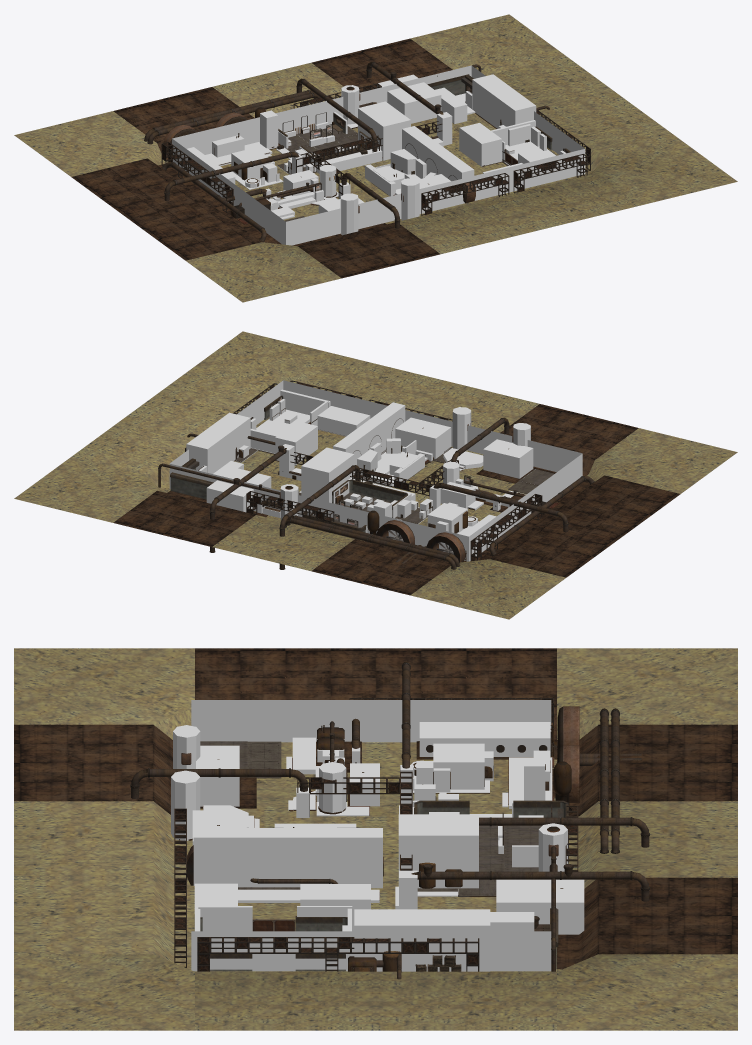
The picture shows the model from 3 angles, top to bottom: view 1: azimuth 30°, elevation 25°; view 2: azimuth 150°, elevation 25°; view 3: azimuth 270°, elevation 25°; orthographic projection. The views are drawn at different scales.
Visible parts, largest first — view 1: environment:main, environment:proxy; view 2: environment:main, environment:proxy; view 3: environment:main, environment:proxy.
Boxes of the visible parts, bbox=[...] form: environment:main: bbox=[14, 14, 737, 302]; environment:proxy: bbox=[172, 65, 585, 245]; environment:main: bbox=[14, 331, 737, 619]; environment:proxy: bbox=[169, 380, 582, 561]; environment:main: bbox=[14, 648, 737, 1030]; environment:proxy: bbox=[171, 700, 584, 971].
Size of the model in its own units: 95.89 by 11.09 by 76.71.
8 materials, 7 textured.
